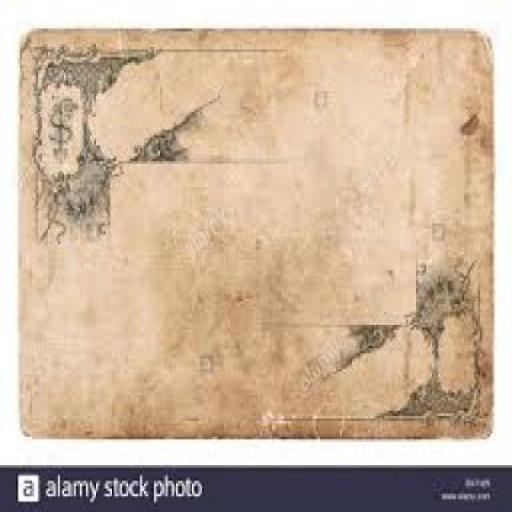cardboard: (16, 26, 492, 439)
